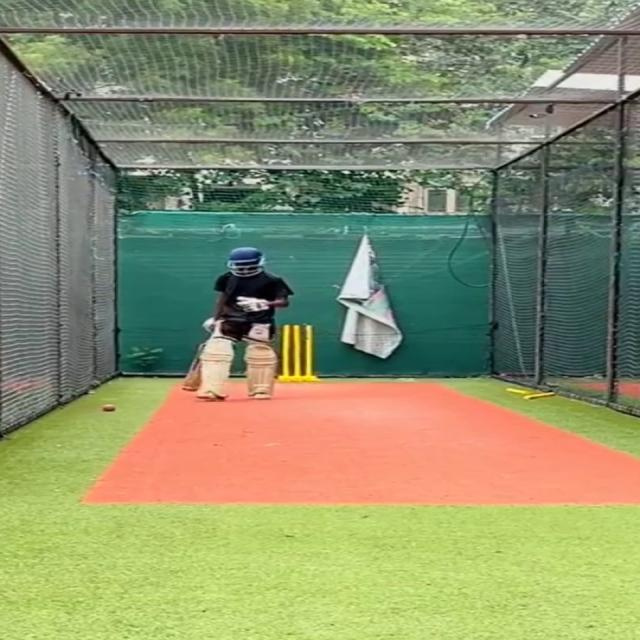ball: (102, 403, 120, 413)
stump: (278, 323, 319, 383)
